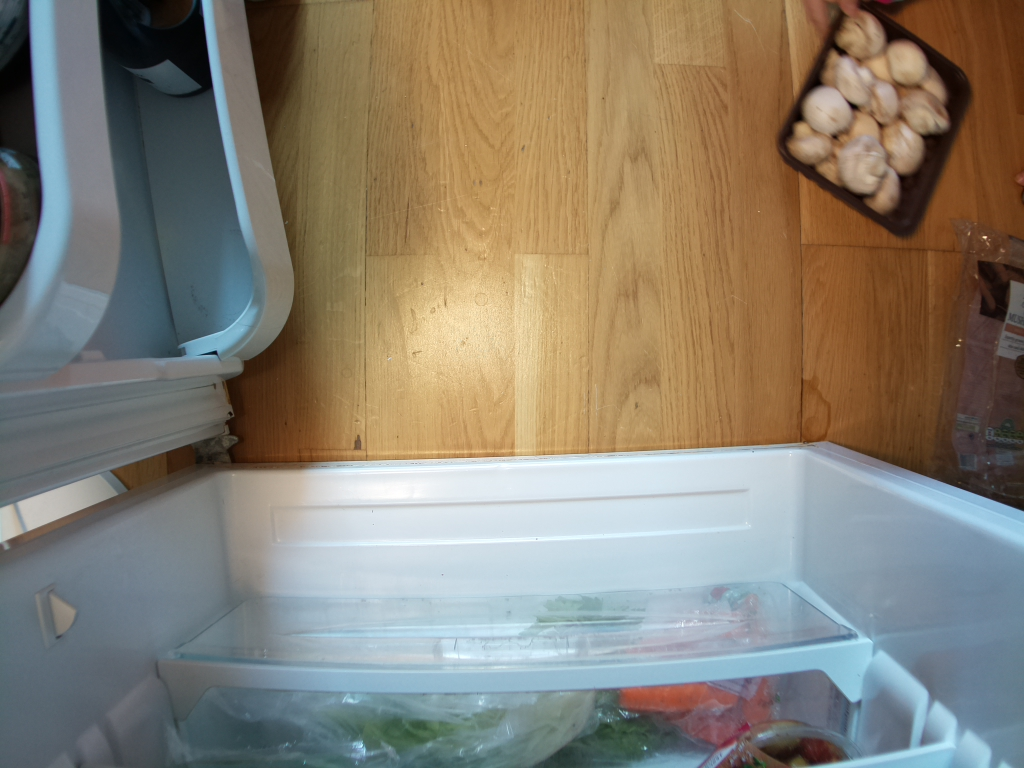mushrooms: (773, 9, 973, 237)
